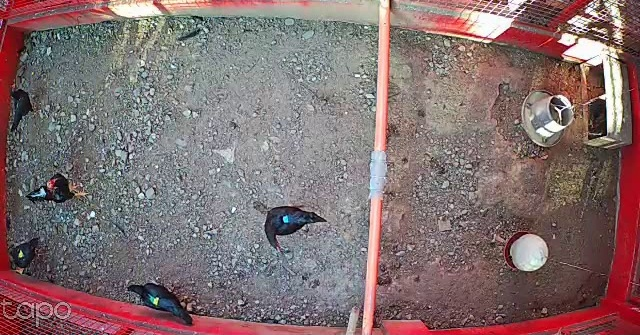Chicken: (263, 202, 331, 255), (126, 277, 196, 326), (8, 79, 39, 130), (5, 238, 42, 274)
Rooster: (27, 164, 90, 208)
Saddle_Color_Blue: (283, 214, 290, 223)
Saddle_Color_Yellow: (16, 250, 22, 259)
Saddle_Color_YellowGreen: (148, 291, 160, 306)
